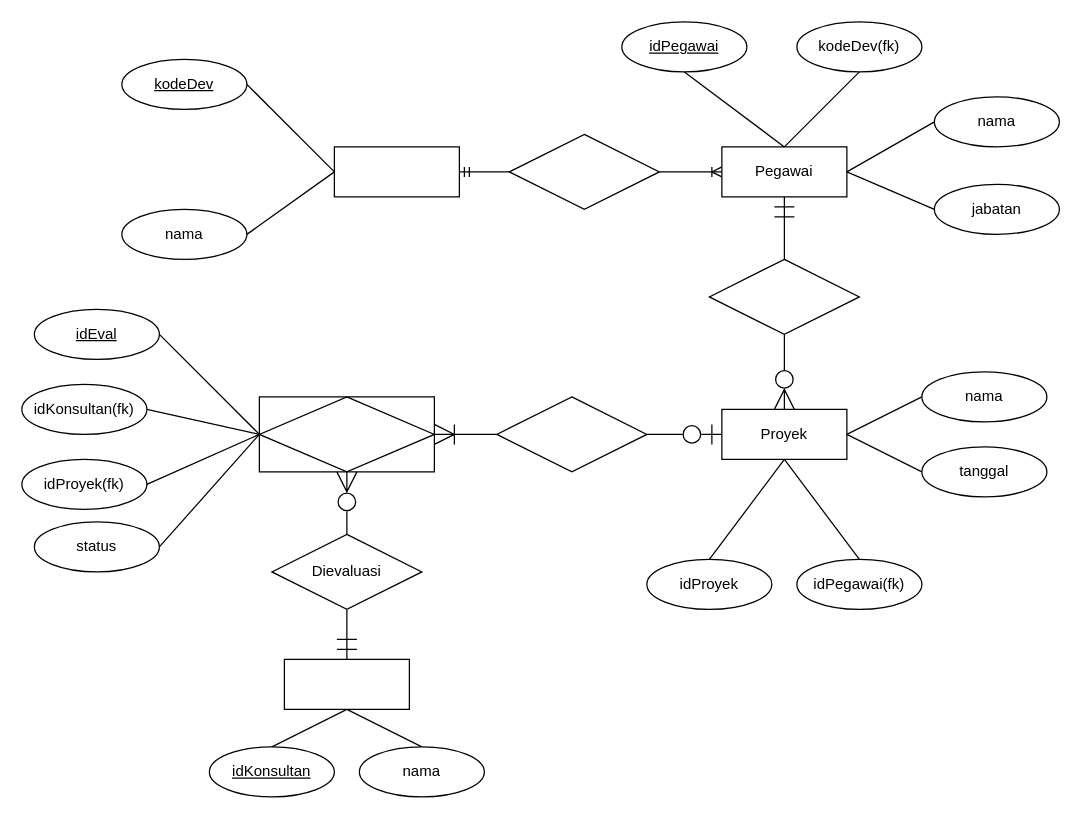
Image size: 1081x819. Some labels were removed from this diagram. The centre of each missing label's shape, as x and y in pixels:
"Divisi" goes at (x=396, y=171).
"Evaluasi" goes at (x=346, y=434).
"Konsultan" goes at (x=346, y=683).
"Menangani" goes at (x=783, y=296).
"Mengevaluasi" goes at (x=571, y=434).
"Menpunyai" goes at (x=583, y=171).
